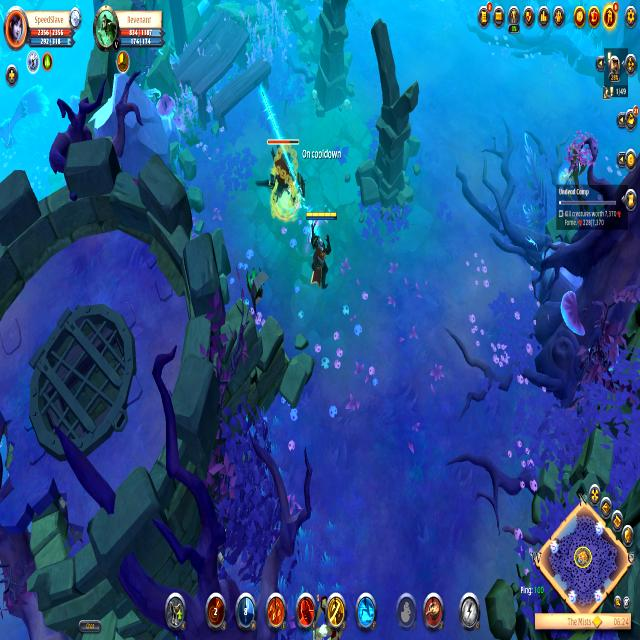ore: (262, 131, 304, 222), (0, 79, 51, 151)
red: (300, 204, 339, 297)
